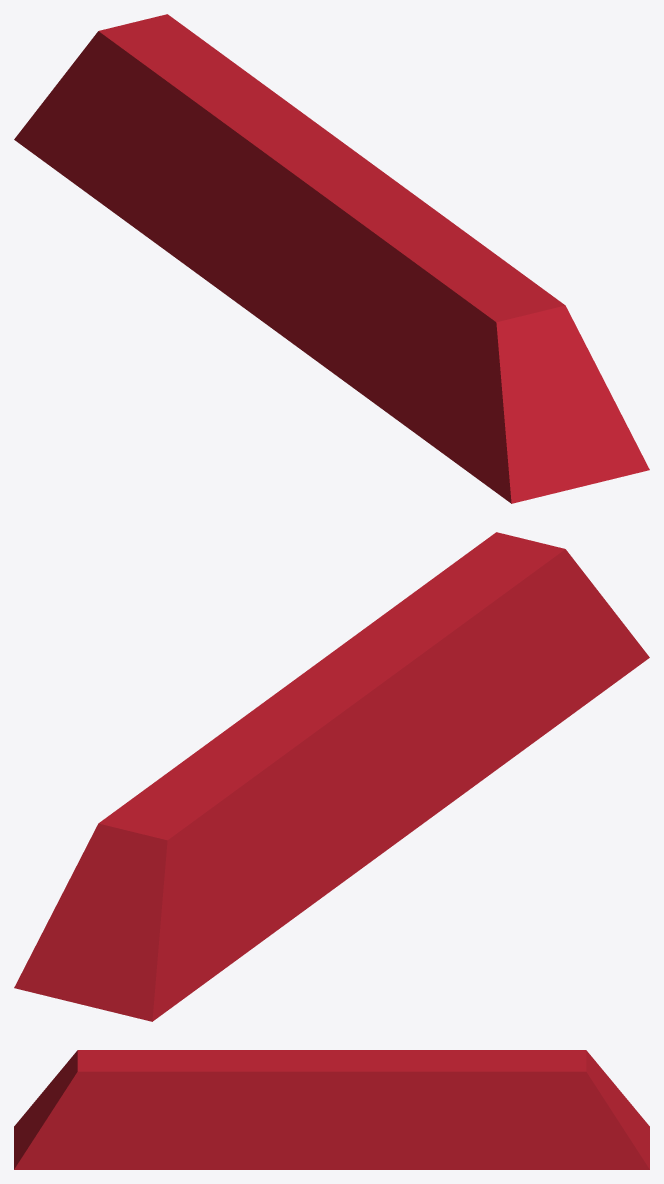
Rendered from wall.fbx.
The picture shows the model from 3 angles, top to bottom: view 1: azimuth 30°, elevation 25°; view 2: azimuth 150°, elevation 25°; view 3: azimuth 270°, elevation 25°; orthographic projection. The views are drawn at different scales.
Parts seen in each view (by area): view 1: Shape_IndexedFaceSet.001; view 2: Shape_IndexedFaceSet.001; view 3: Shape_IndexedFaceSet.001.
Boxes of the visible parts, <box> form: Shape_IndexedFaceSet.001: <box>14,14,649,503</box>; Shape_IndexedFaceSet.001: <box>14,532,649,1021</box>; Shape_IndexedFaceSet.001: <box>14,1050,649,1169</box>.
Bounding box in the file's own units: 0.3212 × 0.303 × 2.
